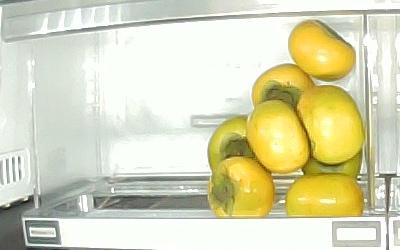persimmon: (296, 84, 364, 166), (246, 101, 310, 175), (287, 18, 355, 82), (206, 157, 275, 217), (205, 116, 274, 176), (286, 172, 365, 219), (252, 63, 313, 110), (301, 147, 363, 178)
